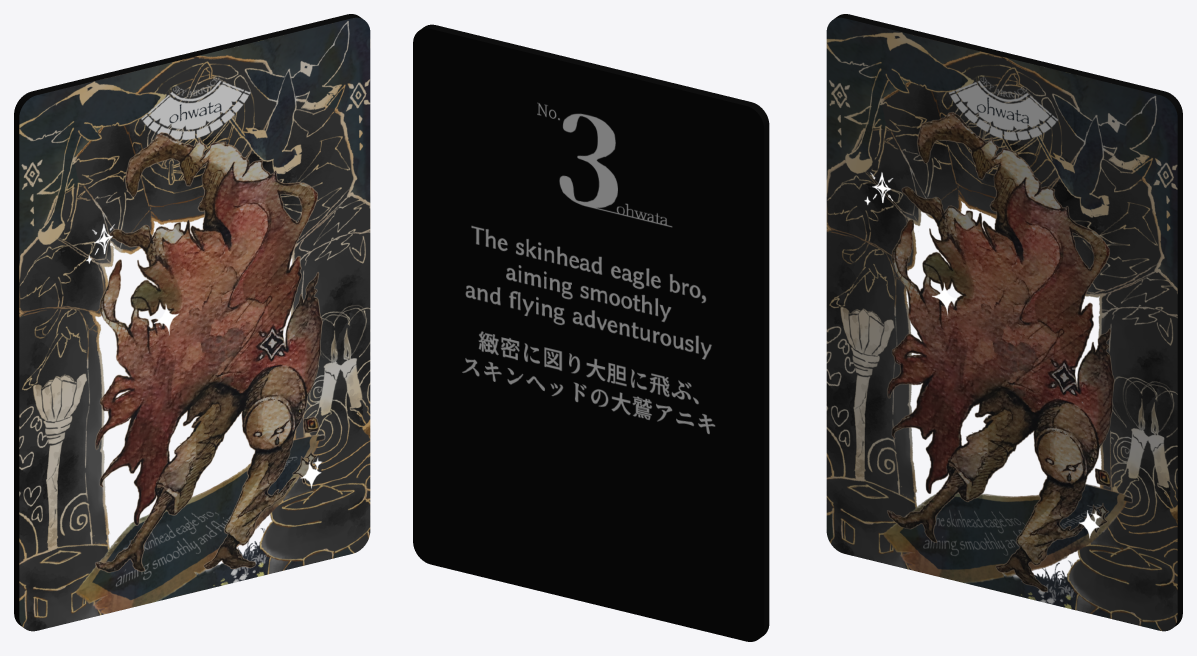
File: 03_ohwata.glb
The picture shows the model from 3 angles, left to right: view 1: azimuth 30°, elevation 25°; view 2: azimuth 150°, elevation 25°; view 3: azimuth 330°, elevation 25°; orthographic projection.
Visible parts, largest first — view 1: きらきら; view 2: きらきら; view 3: きらきら.
Part boxes in pixels (box(x1,y1,x2,y2)): きらきら: box(14, 14, 370, 631); きらきら: box(413, 24, 769, 641); きらきら: box(826, 14, 1182, 631).
Bounding box in the file's own units: 0.236 × 0.344 × 0.023.
Materials: 5 (4 with a texture image).
